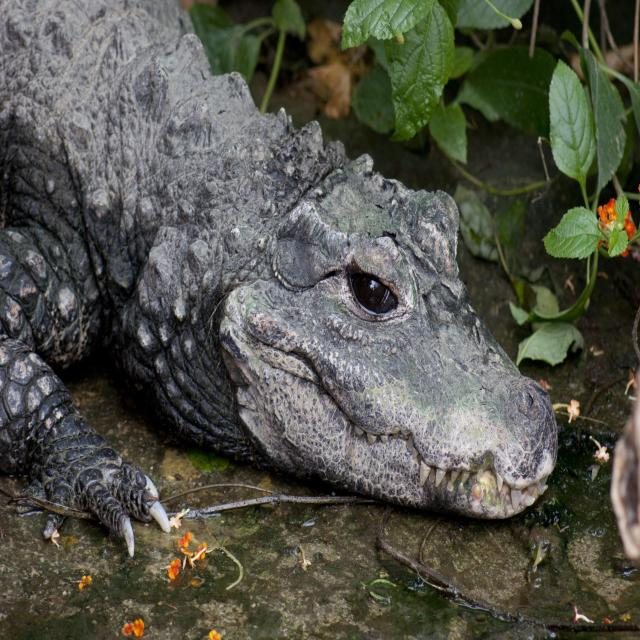crocodile: (0, 0, 585, 637)
